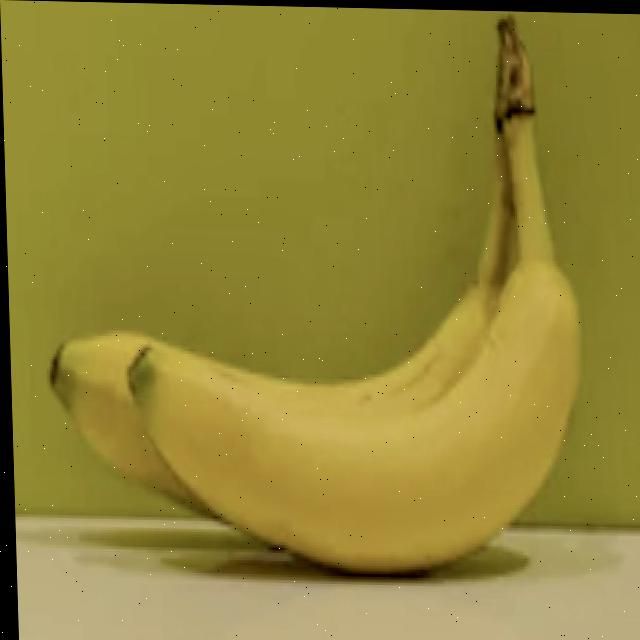banana: (34, 153, 631, 606)
